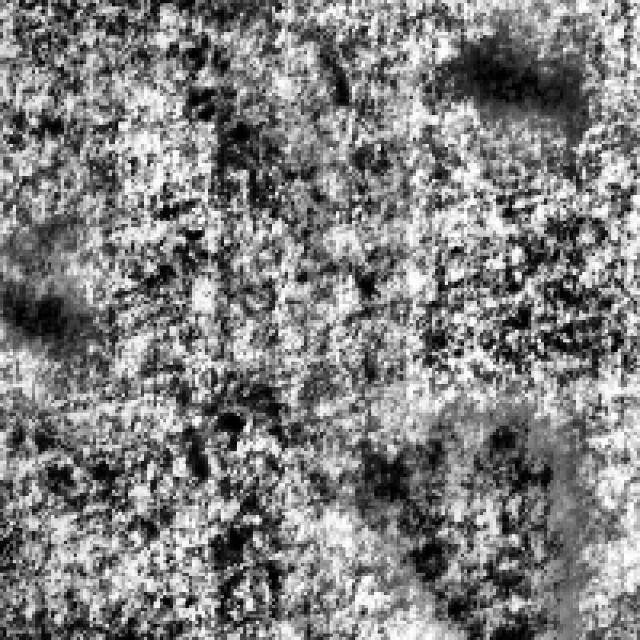Scratches: (352, 400, 586, 637), (452, 28, 566, 122), (0, 214, 80, 346)
